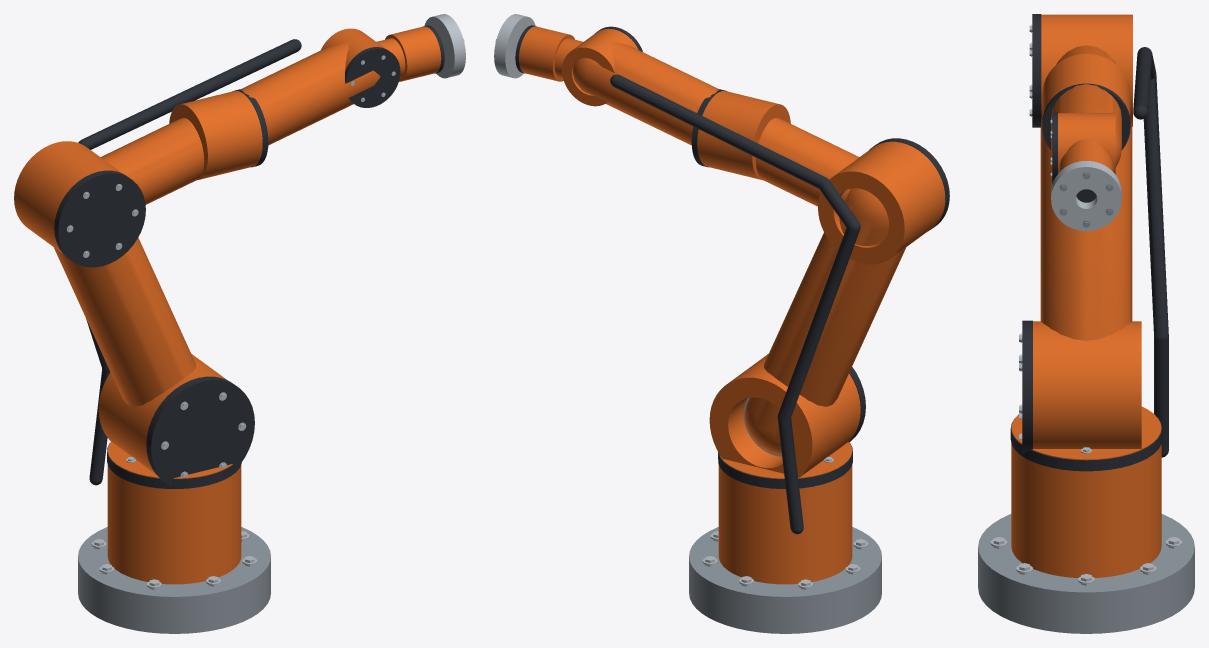
3 views of the same model, side by side, from view 1: azimuth 30°, elevation 25°; view 2: azimuth 150°, elevation 25°; view 3: azimuth 270°, elevation 25° (orthographic). The views are drawn at different scales.
Visible parts, largest first — view 1: Upper_arm_casting, Forearm_casting, Anchored_base_flange, Axis_1_base_rotation_housing, Axis_2_shoulder_service_cover, Axis_3_elbow_service_cover, Axis_4_forearm_roll_housing, Axis_3_elbow_housing, Pedestal_drive_cover, Service_cable_loom, Axis_2_shoulder_housing, Axis_5_wrist_pitch_service_cover (+5 smaller); view 2: Upper_arm_casting, Anchored_base_flange, Forearm_casting, Axis_1_base_rotation_housing, Axis_2_shoulder_housing, Axis_3_elbow_housing, Service_cable_loom, Pedestal_drive_cover, Axis_4_forearm_roll_housing, Axis_5_wrist_pitch_housing, Axis_6_tool_rotation_housing, Tool_mounting_flange (+3 smaller); view 3: Anchored_base_flange, Axis_1_base_rotation_housing, Axis_2_shoulder_housing, Upper_arm_casting, Pedestal_drive_cover, Service_cable_loom, Axis_3_elbow_housing, Tool_mounting_flange, Axis_4_forearm_roll_housing, Forearm_casting, Axis_5_wrist_pitch_housing, Axis_1_base_rotation_service_cover (+7 smaller).
Boxes of the visible parts, x1,y1,x2,y2 form: Upper_arm_casting: (54,237,196,406); Forearm_casting: (100,41,380,204); Anchored_base_flange: (78,527,270,633); Axis_1_base_rotation_housing: (107,465,241,584); Axis_2_shoulder_service_cover: (146,376,254,486); Axis_3_elbow_service_cover: (54,170,145,267); Axis_4_forearm_roll_housing: (169,91,262,180); Axis_3_elbow_housing: (14,141,122,254); Pedestal_drive_cover: (107,441,235,575); Service_cable_loom: (78,39,301,485); Axis_2_shoulder_housing: (98,354,227,473); Axis_5_wrist_pitch_service_cover: (345,47,400,107); Upper_arm_casting: (744,188,905,454); Anchored_base_flange: (689,527,881,633); Forearm_casting: (573,41,859,206); Axis_1_base_rotation_housing: (718,465,852,584); Axis_2_shoulder_housing: (709,354,860,477); Axis_3_elbow_housing: (818,141,945,264); Service_cable_loom: (610,74,860,534); Pedestal_drive_cover: (719,442,852,575); Axis_4_forearm_roll_housing: (697,91,790,180); Axis_5_wrist_pitch_housing: (562,28,638,106); Axis_6_tool_rotation_housing: (519,26,574,81); Tool_mounting_flange: (494,14,535,78); Anchored_base_flange: (978,514,1194,633); Axis_1_base_rotation_housing: (1011,444,1161,577); Axis_2_shoulder_housing: (1033,321,1141,448); Upper_arm_casting: (1040,126,1132,340); Pedestal_drive_cover: (1011,406,1161,568); Service_cable_loom: (1133,47,1168,457); Axis_3_elbow_housing: (1041,14,1132,126); Tool_mounting_flange: (1051,161,1121,231); Axis_4_forearm_roll_housing: (1042,54,1130,116); Forearm_casting: (1051,45,1121,167); Axis_5_wrist_pitch_housing: (1058,113,1115,174); Axis_1_base_rotation_service_cover: (1010,419,1162,471).
Size of the model in its own units: 1.3 by 1.52 by 0.52.
